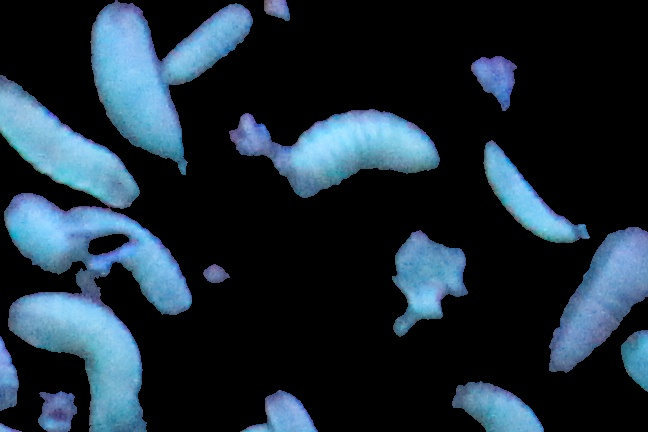larvae: (1, 72, 157, 219), (280, 84, 450, 206), (2, 281, 149, 414), (89, 8, 195, 170), (470, 127, 597, 259), (547, 210, 648, 373), (56, 213, 193, 316), (153, 11, 257, 80), (458, 368, 543, 432), (1, 291, 25, 414)
